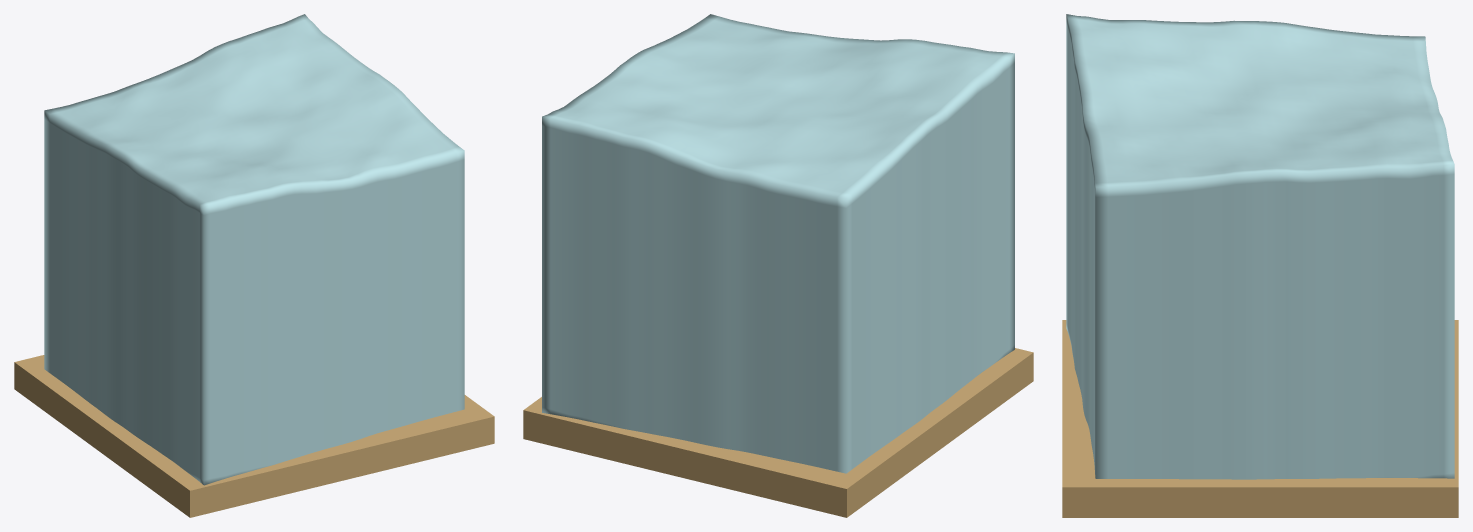
The picture shows the model from 3 angles, left to right: view 1: azimuth 30°, elevation 25°; view 2: azimuth 150°, elevation 25°; view 3: azimuth 270°, elevation 25°; orthographic projection. The views are drawn at different scales.
Visible parts, largest first — view 1: Cube, Plane; view 2: Cube, Plane; view 3: Cube, Plane.
Part boxes in pixels (box(x1,y1,x2,y2)): Cube: box(44, 14, 464, 485); Plane: box(14, 355, 494, 517); Cube: box(542, 14, 1014, 473); Plane: box(523, 348, 1033, 517); Cube: box(1066, 14, 1454, 479); Plane: box(1062, 320, 1458, 517).
Bounding box in the file's own units: 6.3 × 6.06 × 6.3.
